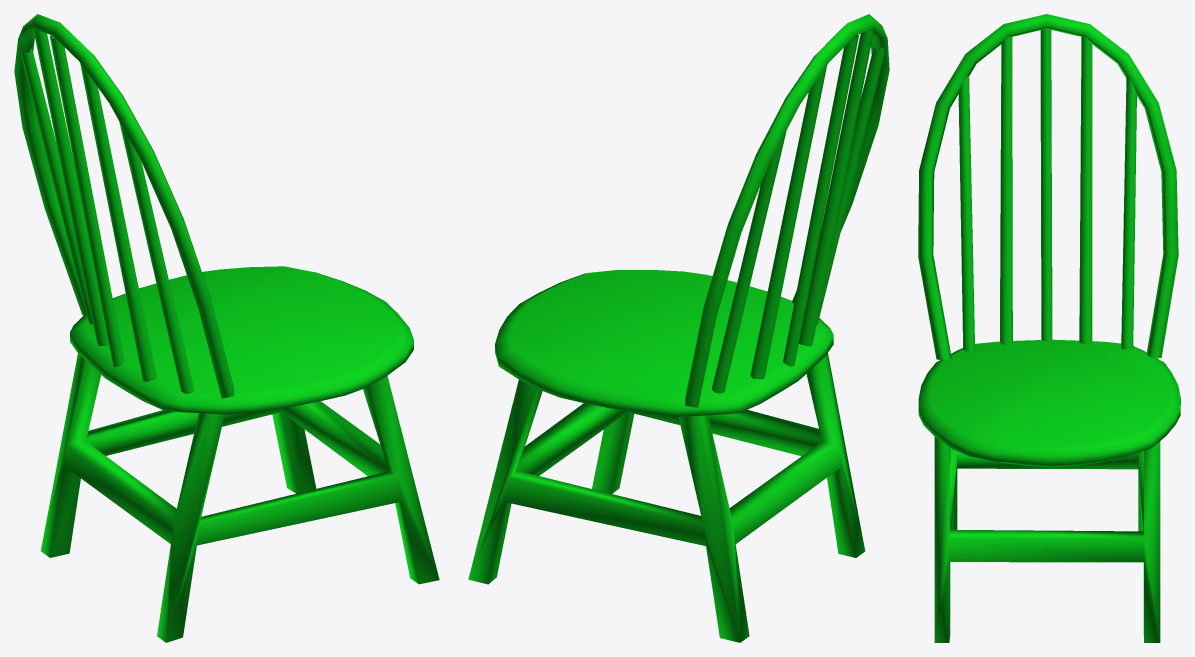
File: chair.fbx
The picture shows the model from 3 angles, left to right: view 1: azimuth 30°, elevation 25°; view 2: azimuth 150°, elevation 25°; view 3: azimuth 270°, elevation 25°; orthographic projection. The views are drawn at different scales.
Parts seen in each view (by area): view 1: Chair; view 2: Chair; view 3: Chair.
Boxes of the visible parts, box(x1,y1,x2,y2) form: Chair: box(14, 14, 439, 642); Chair: box(468, 14, 889, 642); Chair: box(918, 14, 1180, 642).
Bounding box in the file's own units: 93.11 × 155 × 74.
